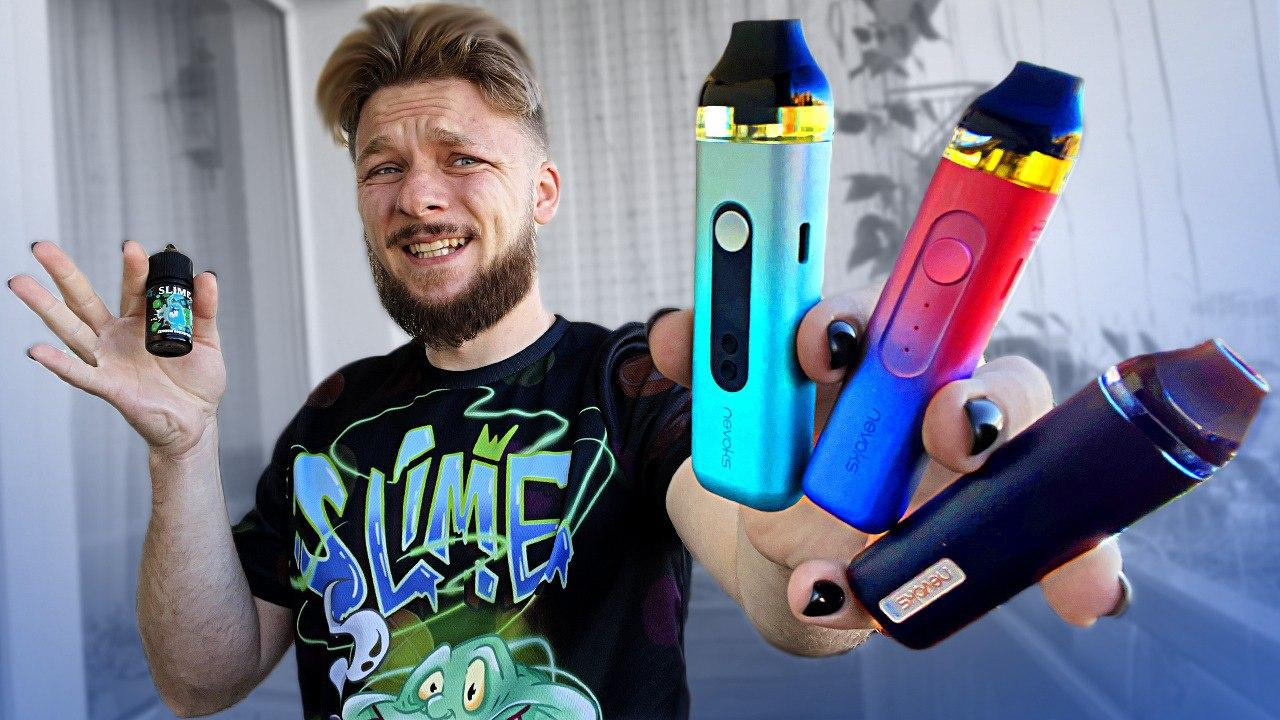Vape: (801, 62, 1083, 533), (848, 339, 1268, 648), (692, 20, 833, 510)
